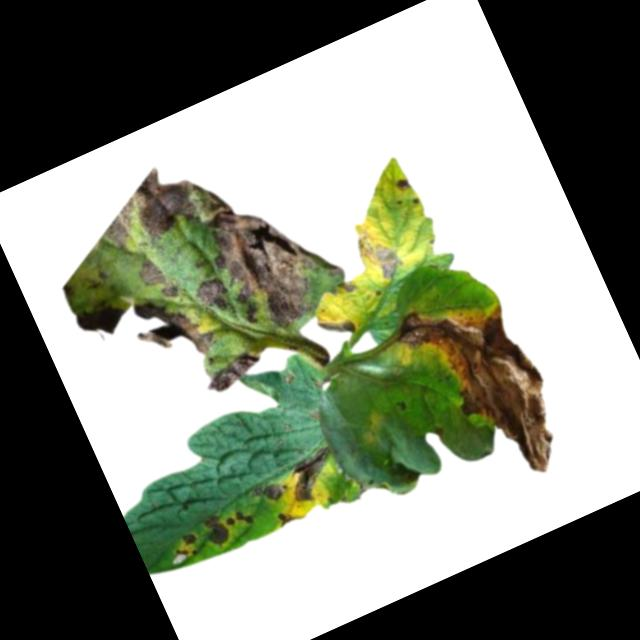Early_blight: (390, 273, 579, 506), (200, 182, 356, 345), (91, 146, 232, 262), (123, 283, 218, 380), (279, 445, 343, 507), (351, 225, 410, 290), (198, 346, 268, 397), (70, 300, 131, 353), (193, 274, 237, 324), (123, 254, 169, 300), (315, 308, 357, 345), (164, 531, 202, 568), (198, 513, 233, 553), (249, 478, 284, 511), (221, 507, 254, 536), (273, 504, 305, 530), (336, 276, 358, 298), (392, 175, 413, 196)
